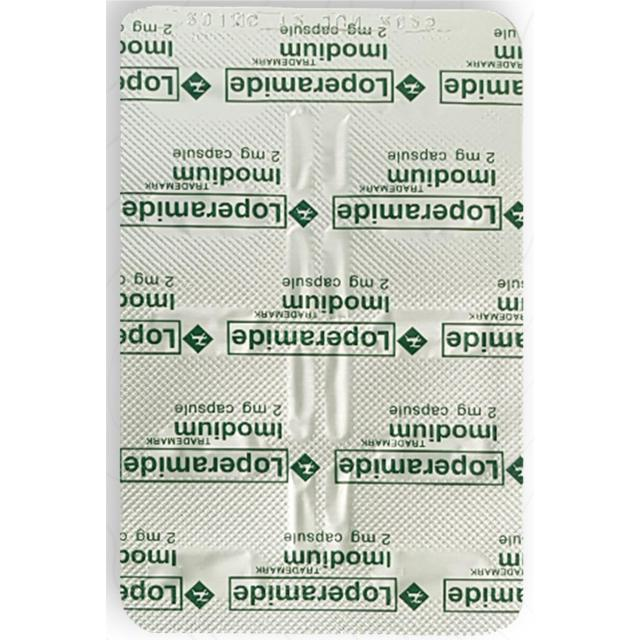blister: (110, 6, 525, 629)
